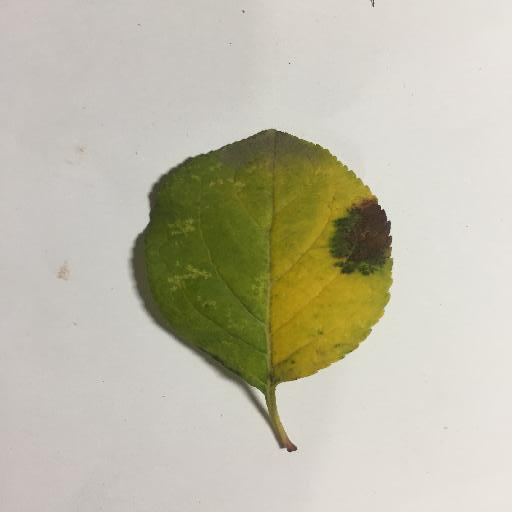Brown_Spot: (299, 191, 397, 275)
